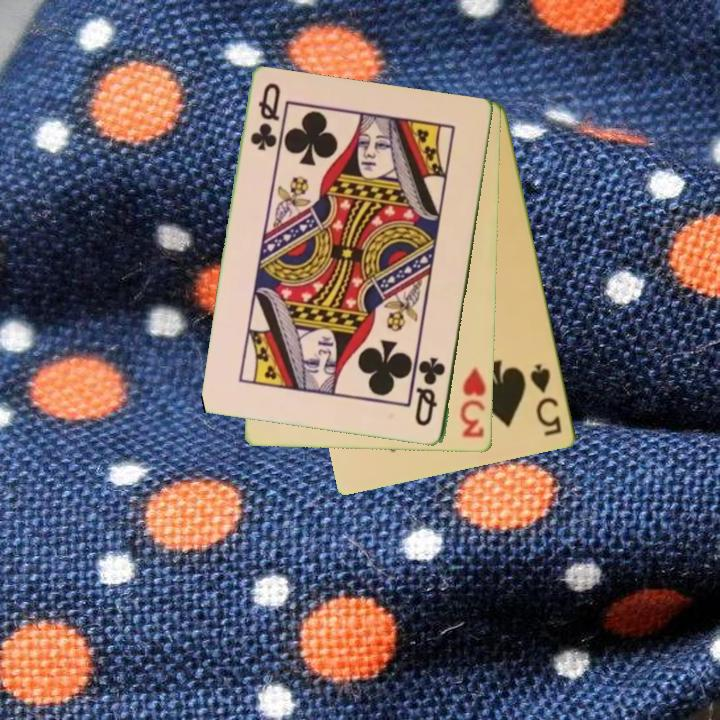3h: (457, 364, 489, 441)
5s: (527, 361, 565, 439)
Qc: (412, 354, 449, 430), (247, 80, 284, 155)
